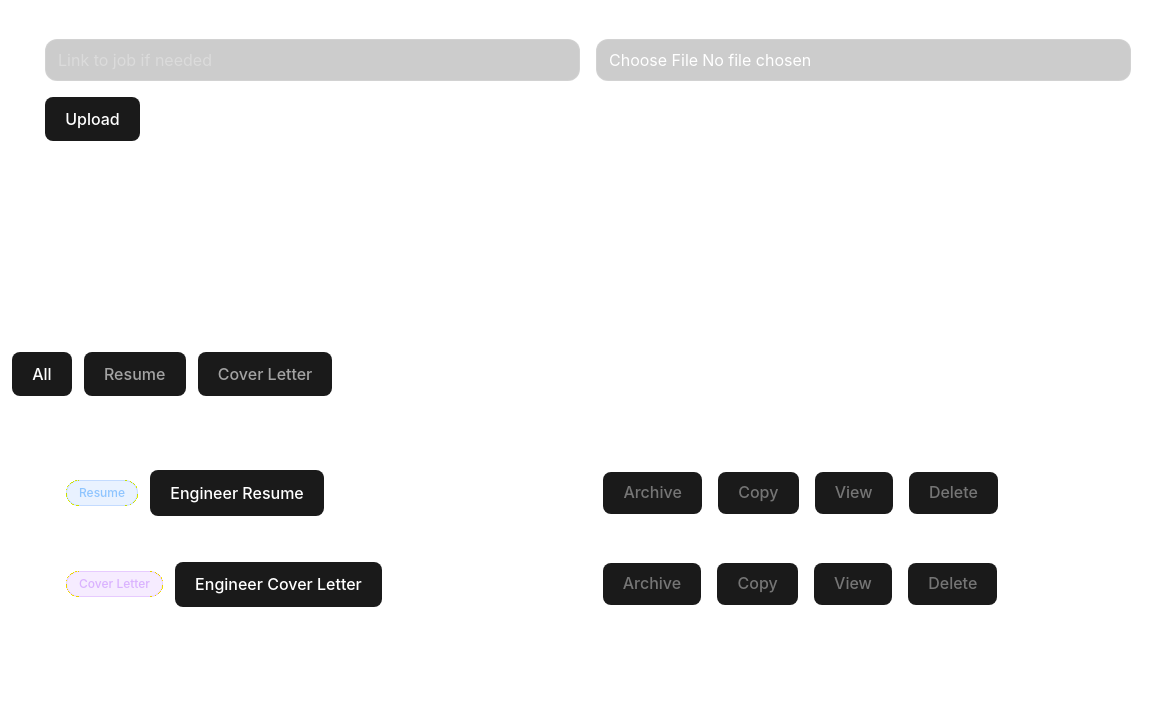
DocumentLibraryPage › rename updates title only and does not create a new displayed version
(page scrolled)
Click the button with aria-label "rename engineer resume" at (237, 493), box 150,470 -> 324,516
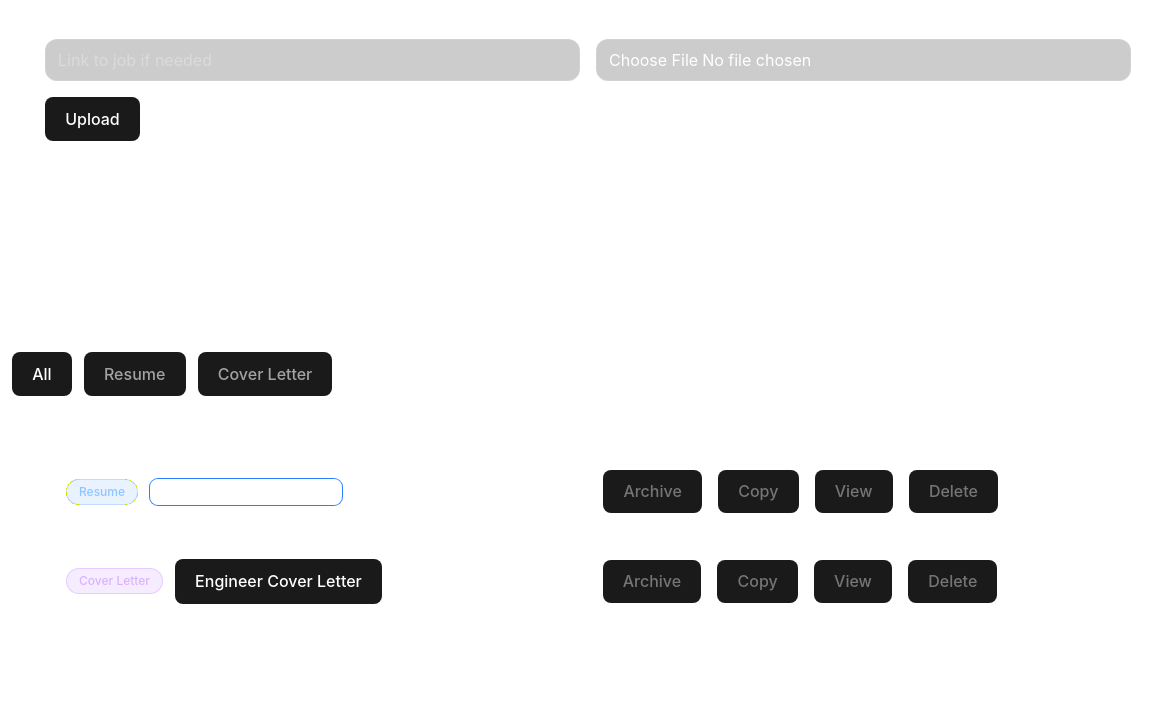
Replace the text in the field named "rename document" with "Retitled Resume" at (246, 492), box 150,479 -> 342,505
Then press Enter
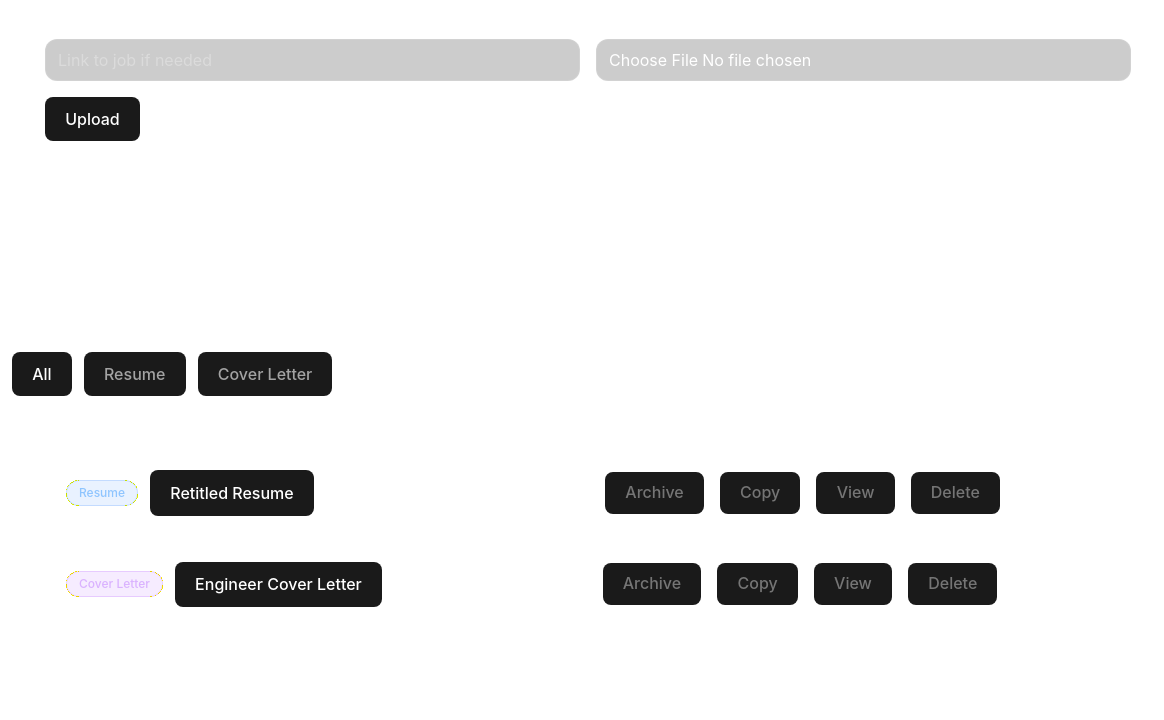
Check: the button "Retitled Resume" is shown, box 150,470 -> 314,516
